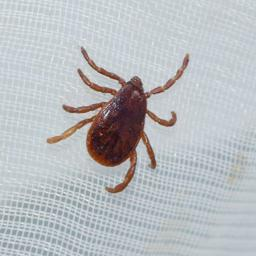Rhipicephalus sanguineus: (46, 46, 191, 195)
